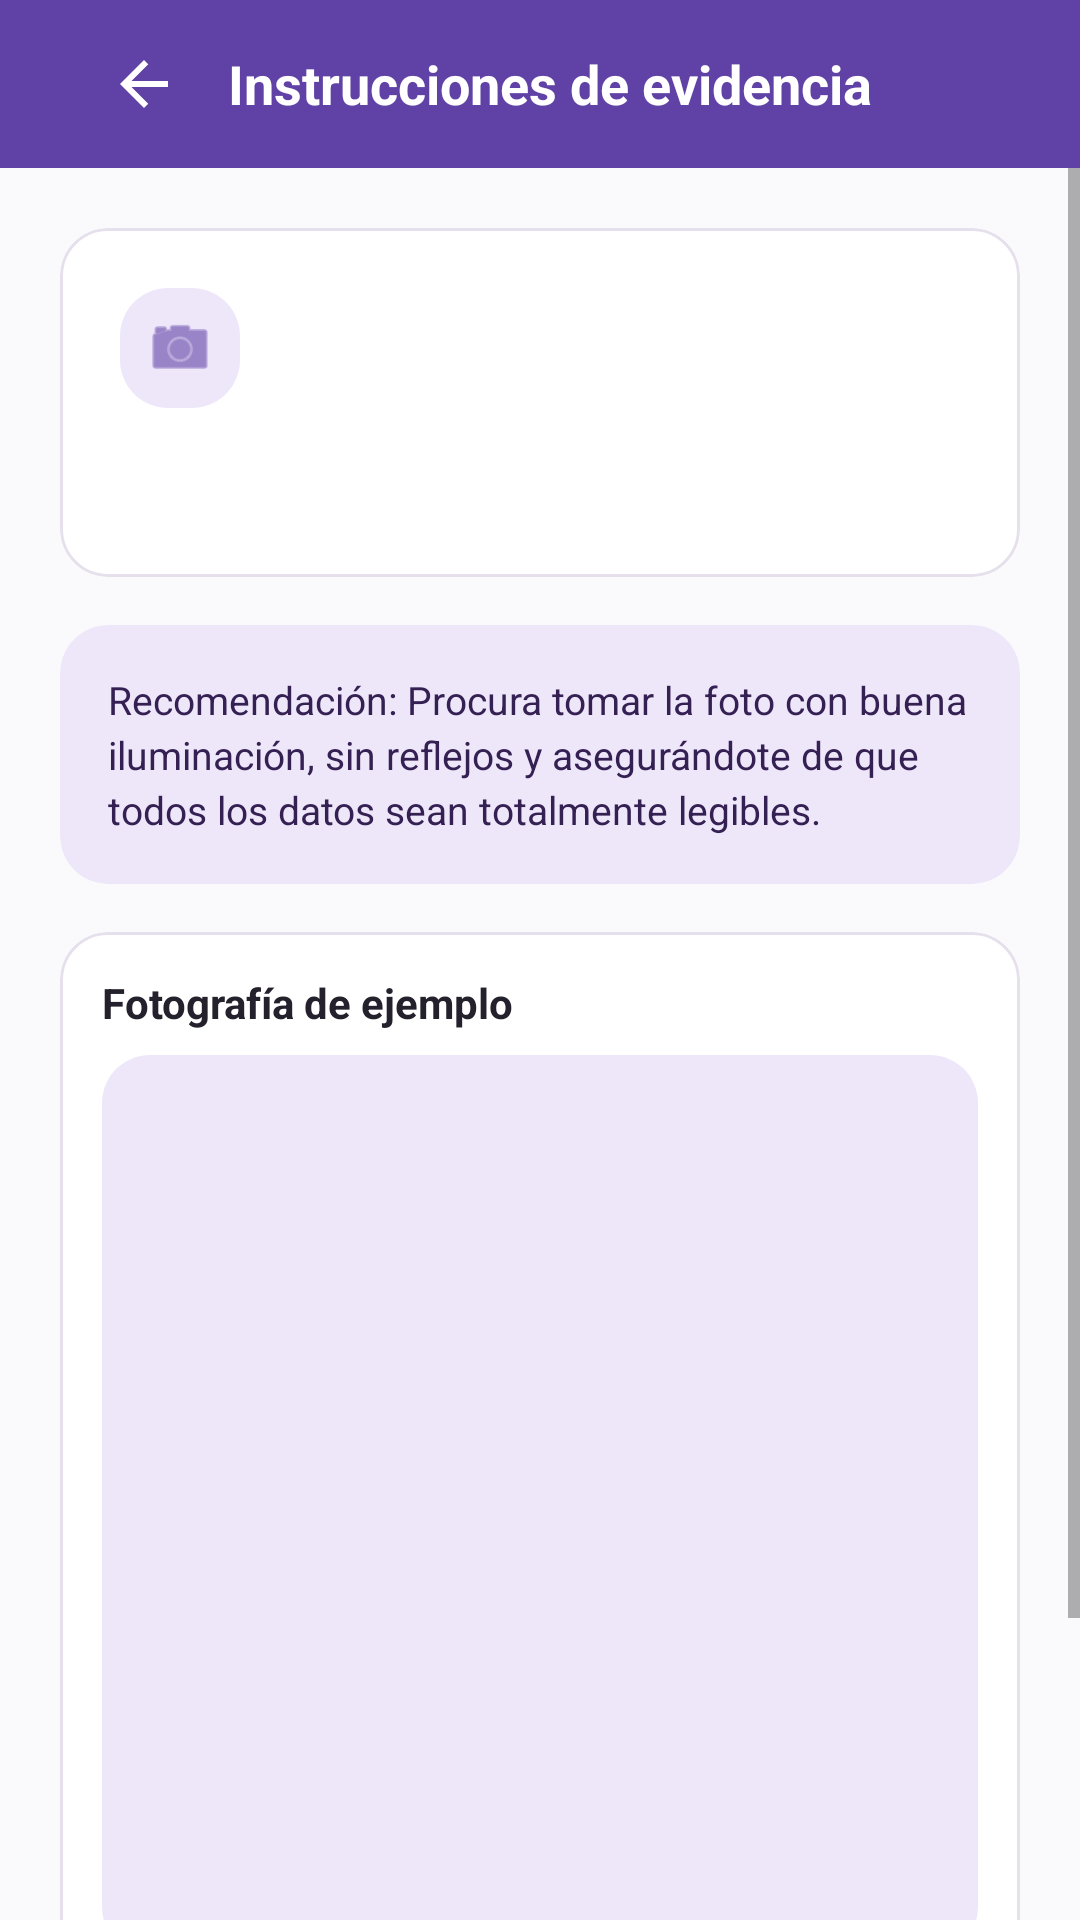

Icons on this 1080w x 1920h Android screen, each with the point to tap as (x=x, y=y):
camera: (x=180, y=346)
Volver: (x=144, y=84)
